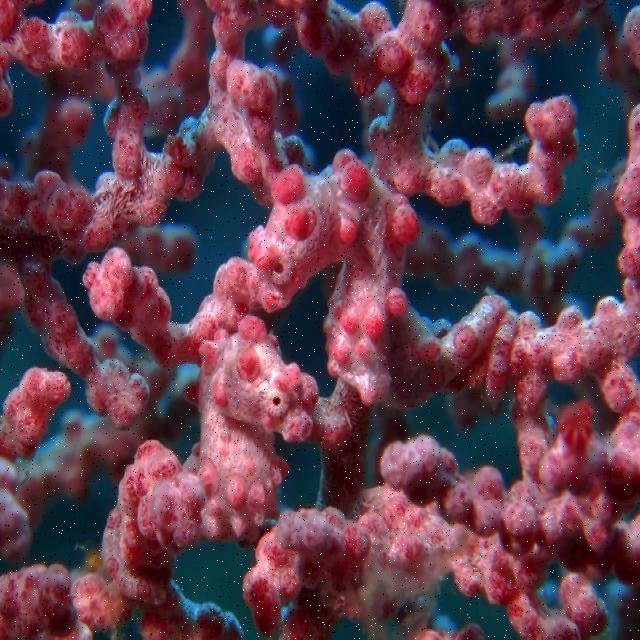reefs: (0, 1, 638, 640)
